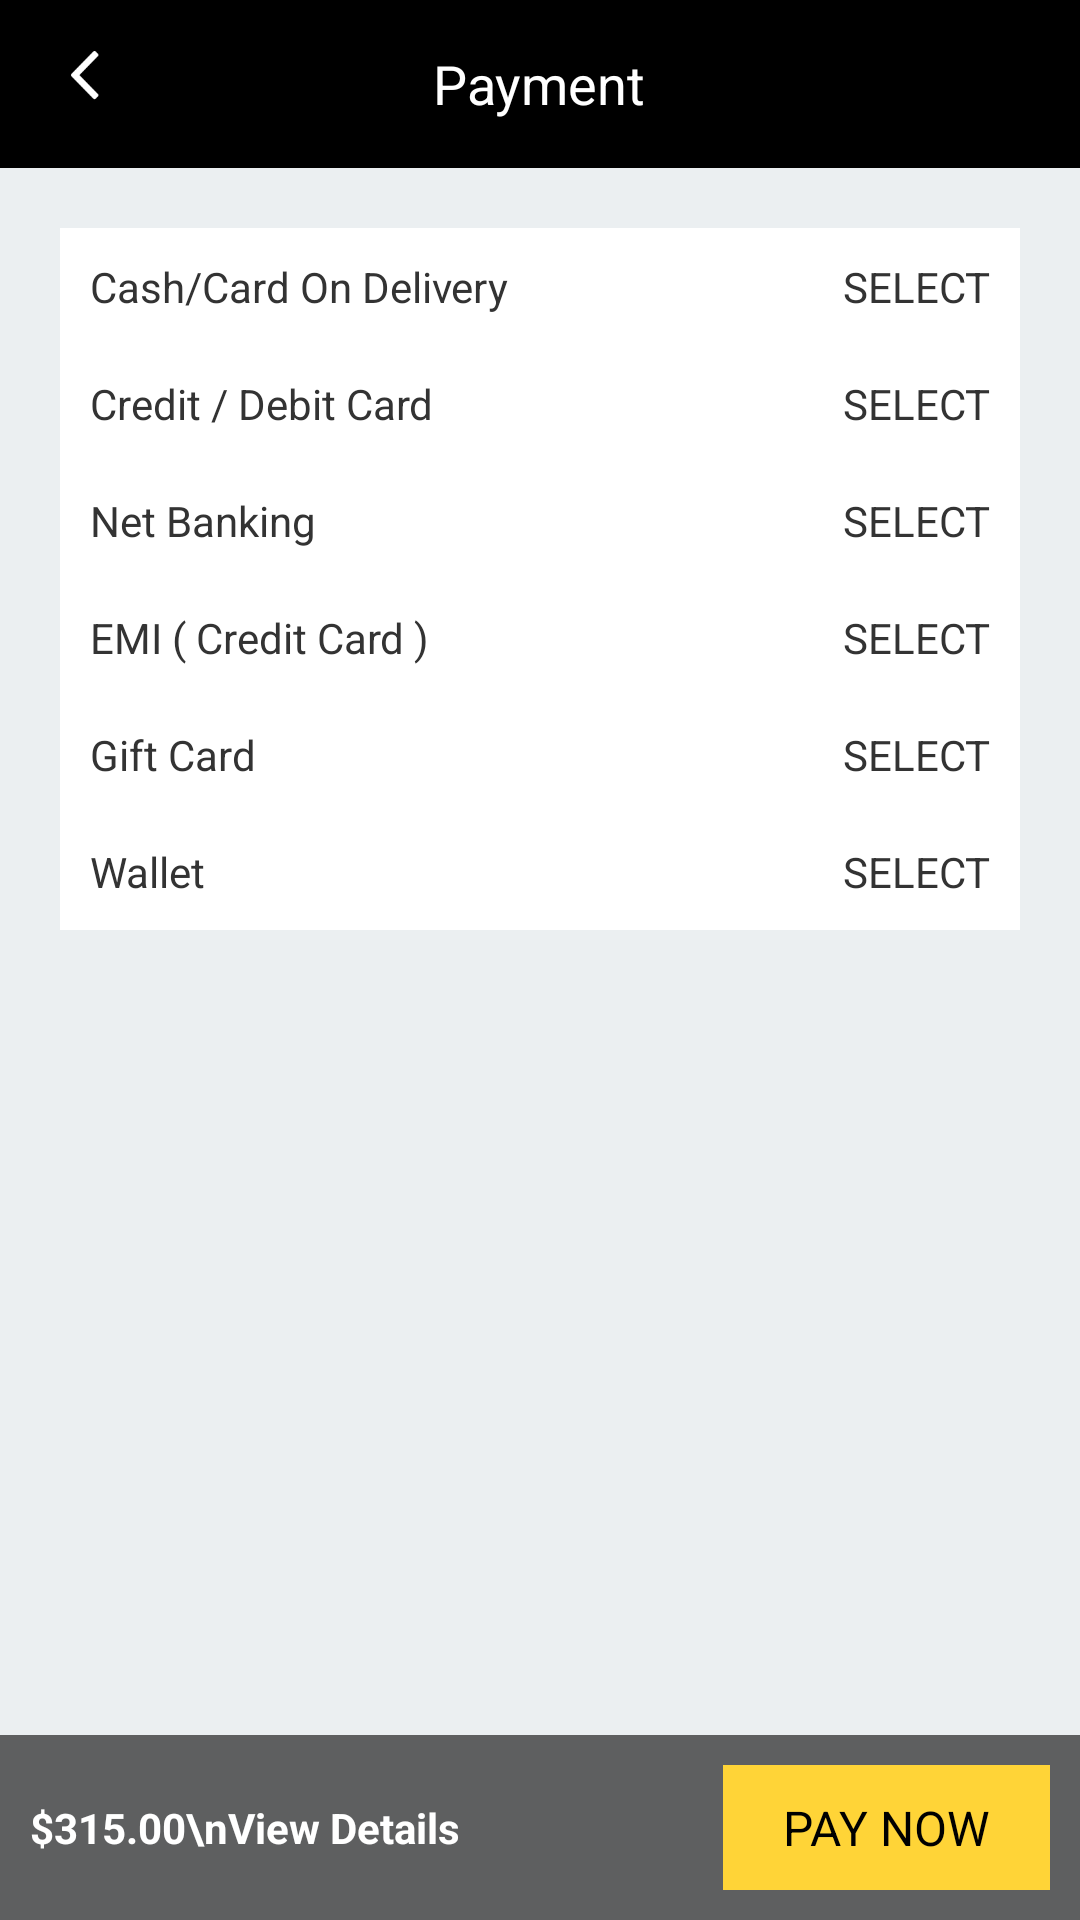

Where icons sit on this 1080 × 1920 app screen, as {"left": x1, "top": y1, "right": x2, "bottom": y2}:
back: {"left": 71, "top": 51, "right": 99, "bottom": 100}
